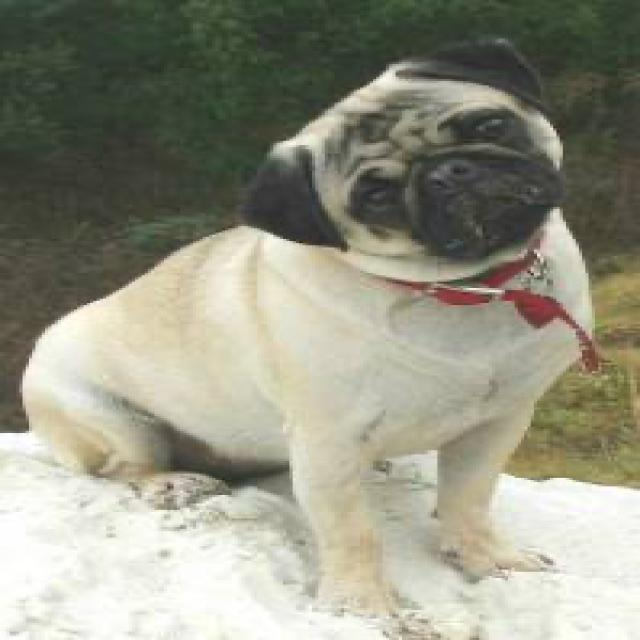dog: (235, 34, 556, 258)
